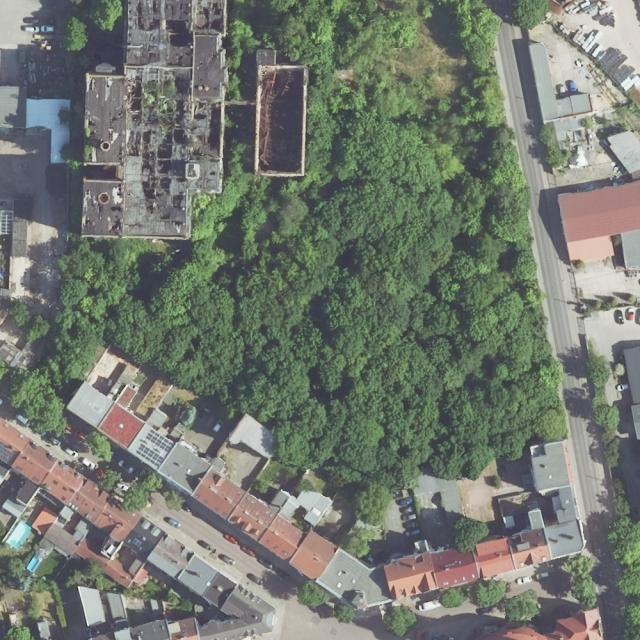PV: (136, 428, 175, 467), (0, 441, 18, 466), (132, 537, 142, 547)
